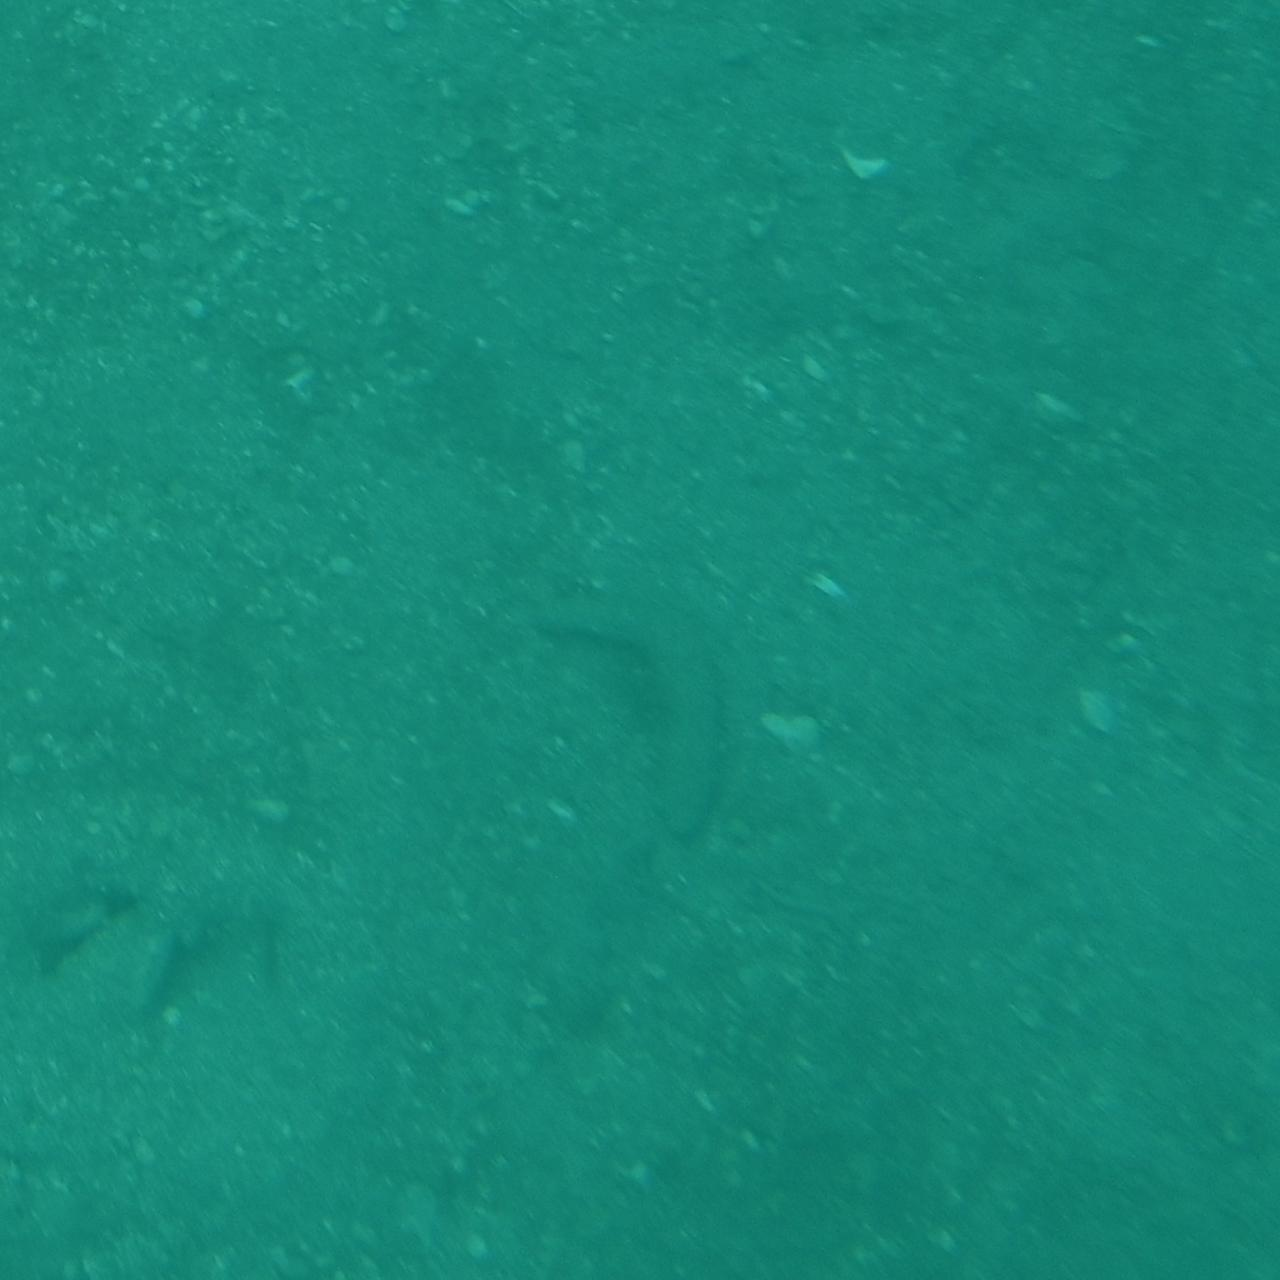Holothuria tubulosa: (553, 585, 727, 849)
